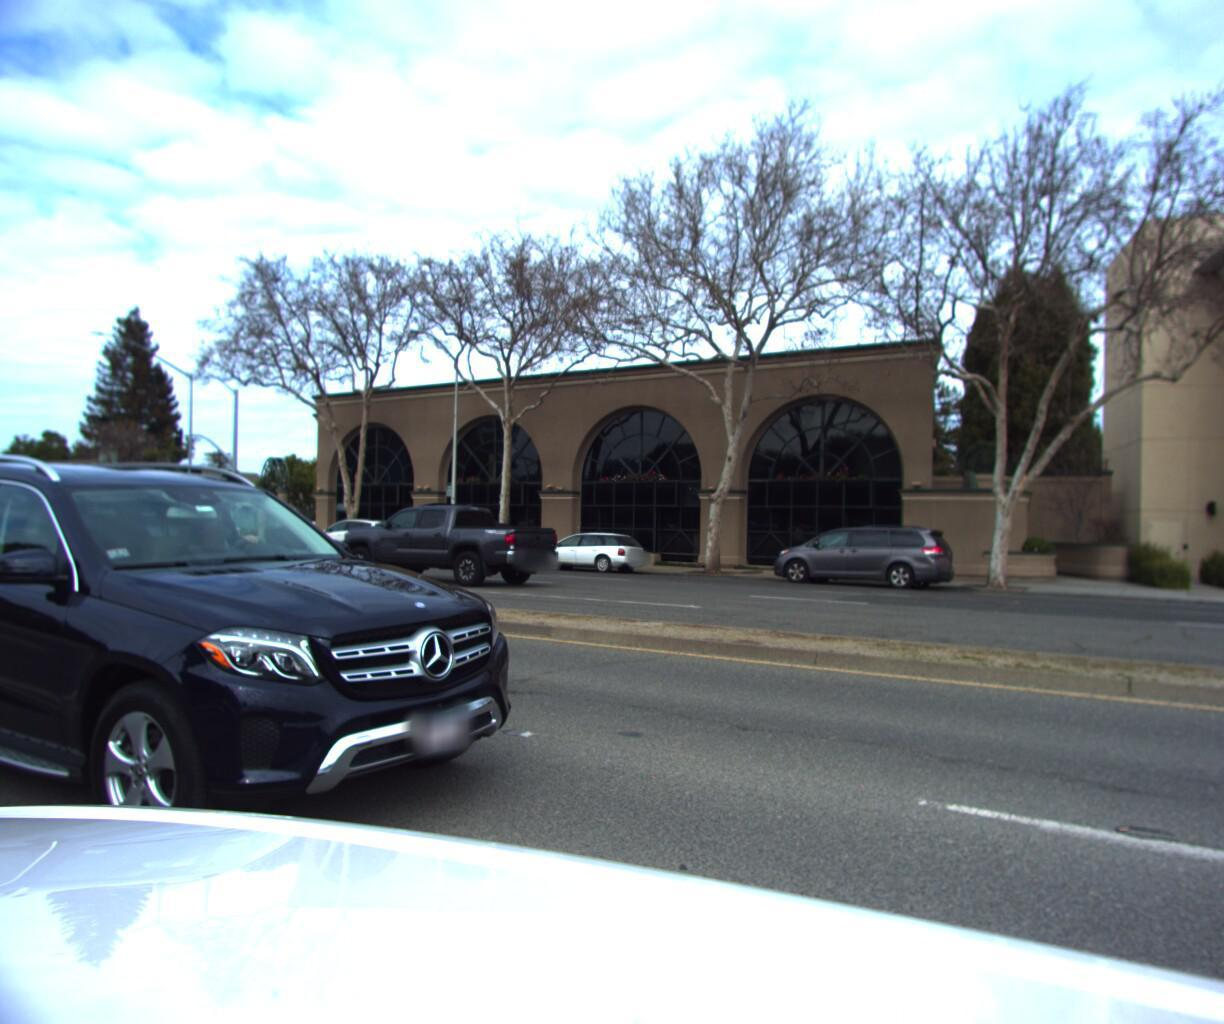car: (0, 417, 560, 927), (330, 503, 561, 591), (760, 521, 960, 592), (521, 530, 652, 578), (402, 521, 525, 571), (303, 518, 409, 564)
